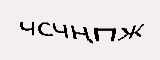Ж: (118, 22, 145, 43)
П: (92, 24, 117, 43)
С: (36, 22, 54, 38)
Ч: (52, 20, 69, 41), (18, 19, 36, 36)
Ң: (68, 22, 93, 45)
